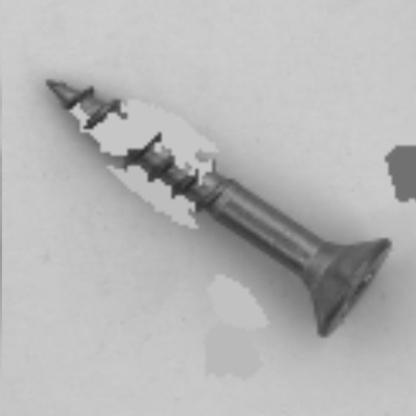metal: (45, 77, 396, 340)
